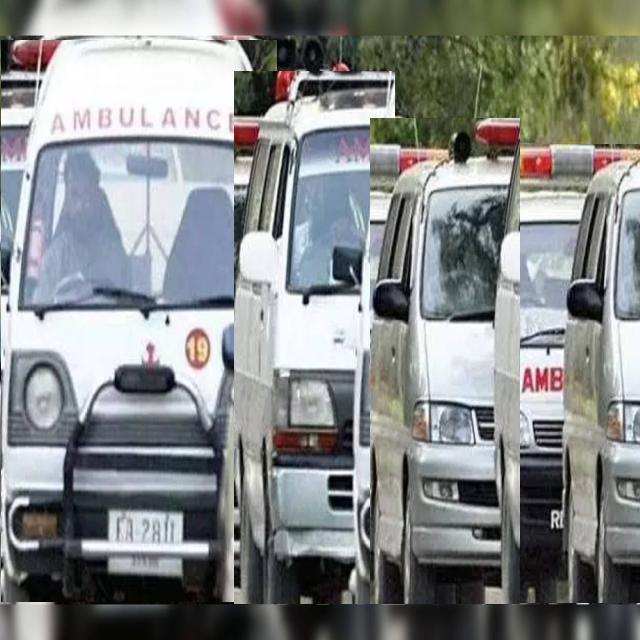emergency: (1, 40, 276, 602), (445, 145, 640, 603), (234, 71, 395, 604), (370, 118, 520, 604)
